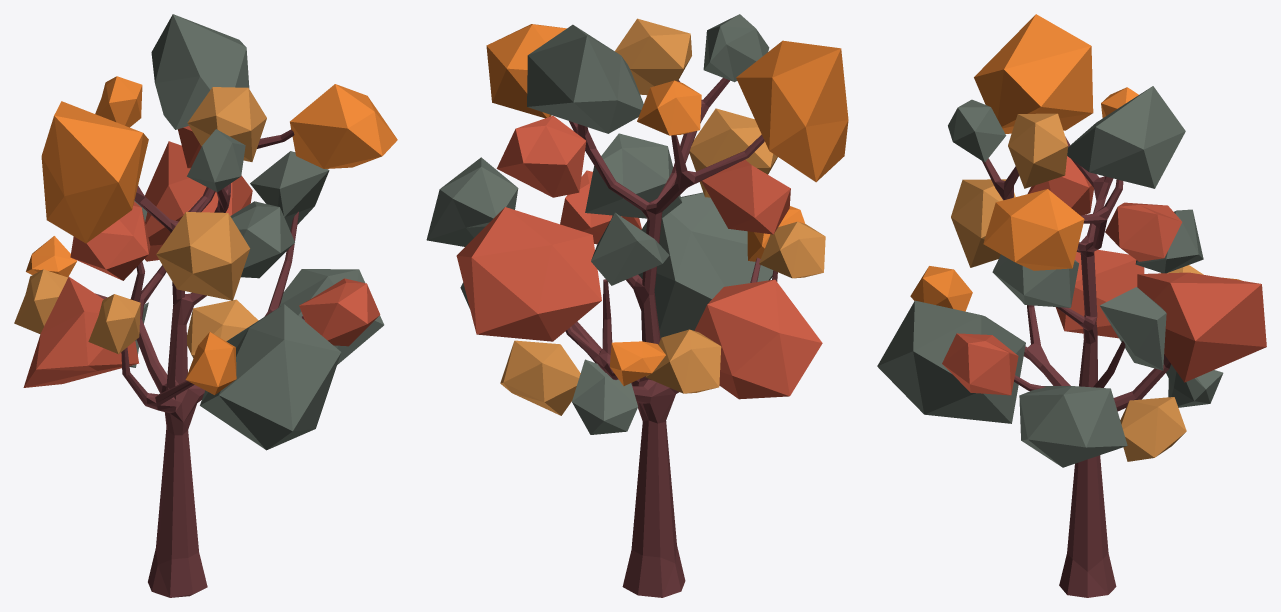
File: maple4.fbx
3 renders of one model, left to right at view 1: azimuth 30°, elevation 25°; view 2: azimuth 150°, elevation 25°; view 3: azimuth 270°, elevation 25°, orthographic. The views are drawn at different scales.
Parts seen in each view (by area): view 1: Плоскость; view 2: Плоскость; view 3: Плоскость.
Boxes of the visible parts, box(x1,y1,x2,y2) form: Плоскость: box(14, 14, 397, 597); Плоскость: box(426, 14, 848, 597); Плоскость: box(877, 14, 1266, 597).
Size of the model in its own units: 767 by 1184 by 807.
